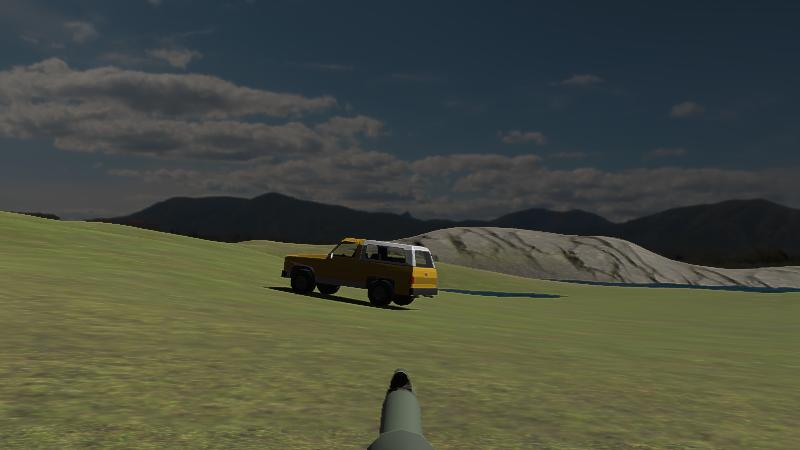car: (281, 236, 439, 308)
